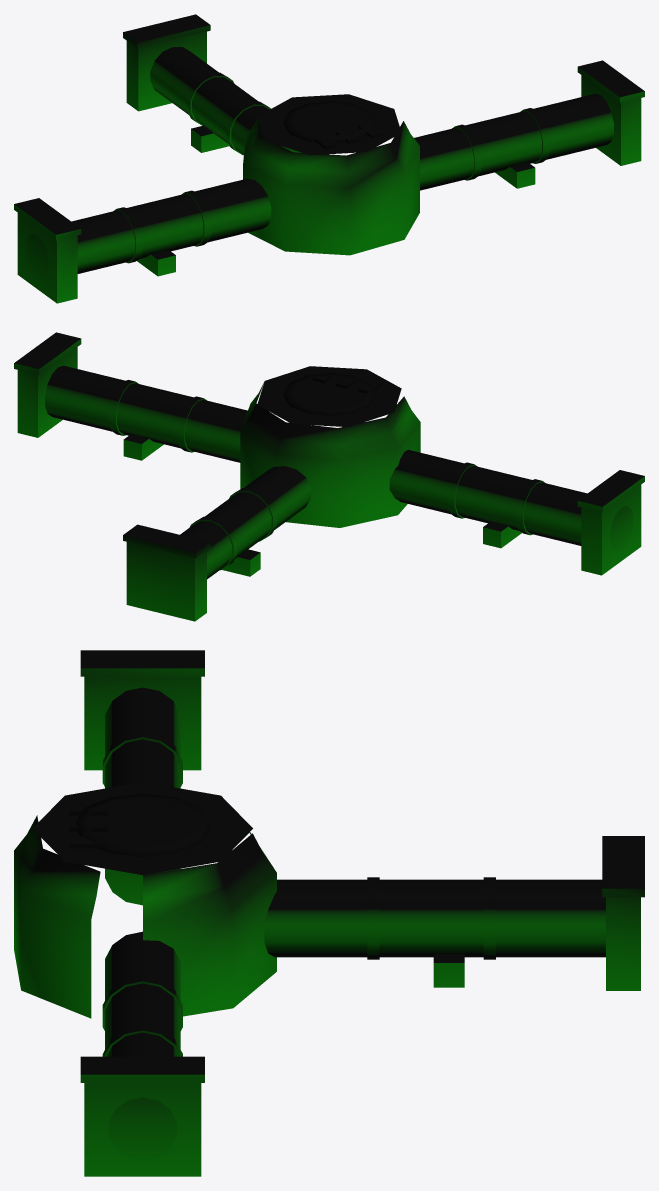
The model's file is threewaypipe.glb.
3 renders of one model, top to bottom at view 1: azimuth 30°, elevation 25°; view 2: azimuth 150°, elevation 25°; view 3: azimuth 270°, elevation 25°, orthographic. The views are drawn at different scales.
Visible parts, largest first — view 1: lod0; view 2: lod0; view 3: lod0.
Boxes of the visible parts, box(x1,y1,x2,y2) form: lod0: box(14, 14, 644, 303); lod0: box(14, 332, 644, 621); lod0: box(14, 650, 644, 1176).
Size of what is drawn, in the model's own units: 25.8 by 4.1 by 16.21.
